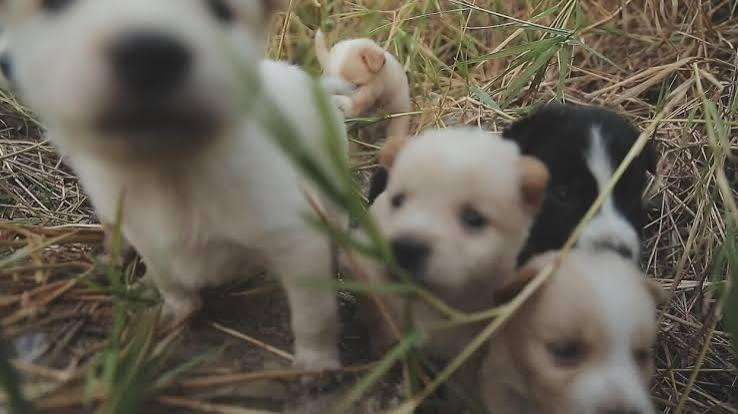puppy-dog: (1, 0, 361, 389), (363, 125, 551, 377), (463, 252, 661, 414), (498, 106, 663, 275), (314, 33, 414, 169)
